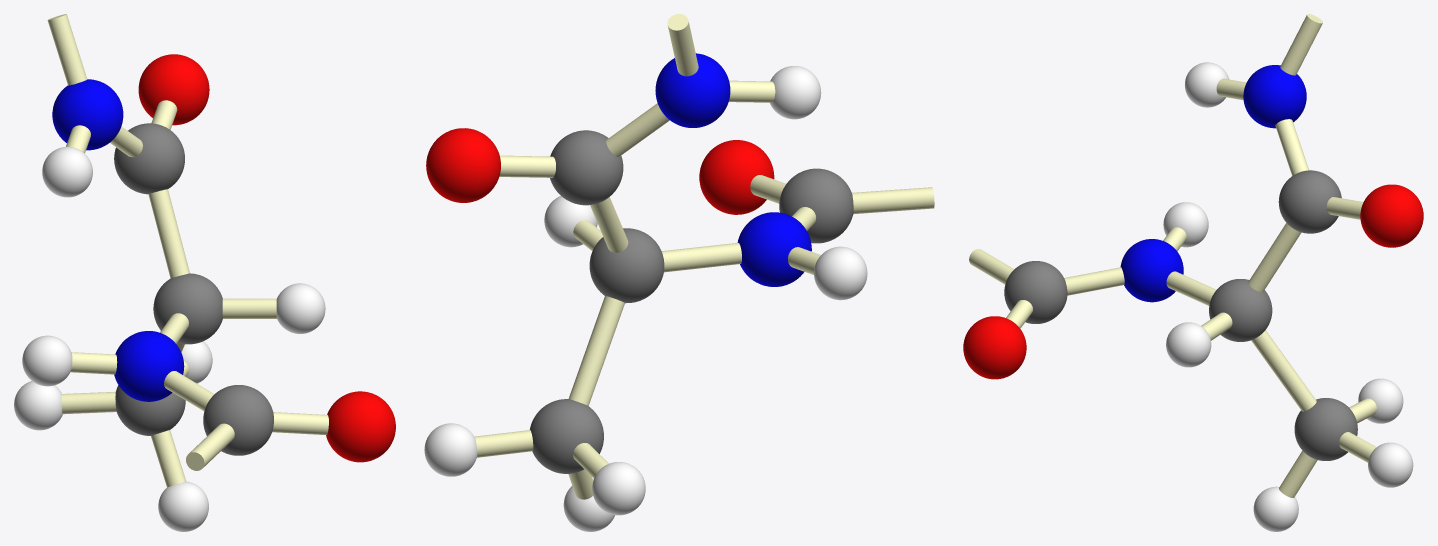
Rendered from conformation.gltf.
The picture shows the model from 3 angles, left to right: view 1: azimuth 30°, elevation 25°; view 2: azimuth 150°, elevation 25°; view 3: azimuth 270°, elevation 25°; orthographic projection. The views are drawn at different scales.
Visible parts, largest first — view 1: ?????????2, ?????????3, ?????????6, ?????????13, ?????????5, ?????????1, ?????????4, ?????????9, ?????????14, ?????????7, ?????????8, ?????????10 (+15 smaller); view 2: ?????????6, ?????????5, ?????????2, ?????????13, ?????????4, ?????????3, ?????????9, ?????????1, ?????????22, ?????????12, ?????????7, ?????????11 (+14 smaller); view 3: ?????????6, ?????????2, ?????????13, ?????????5, ?????????3, ?????????9, ?????????1, ?????????4, ?????????22, ?????????8, ?????????11, ?????????10 (+12 smaller).
Boxes of the visible parts, x1=… form: ?????????2: x1=326, y1=391, x2=395, y2=462; ?????????3: x1=114, y1=331, x2=184, y2=401; ?????????6: x1=138, y1=54, x2=209, y2=125; ?????????13: x1=52, y1=79, x2=123, y2=150; ?????????5: x1=114, y1=123, x2=184, y2=194; ?????????1: x1=203, y1=385, x2=273, y2=455; ?????????4: x1=153, y1=273, x2=222, y2=344; ?????????9: x1=115, y1=385, x2=185, y2=435; ?????????14: x1=42, y1=146, x2=92, y2=197; ?????????7: x1=22, y1=335, x2=72, y2=386; ?????????8: x1=276, y1=283, x2=325, y2=333; ?????????10: x1=158, y1=481, x2=208, y2=531; ?????????6: x1=426, y1=128, x2=500, y2=202; ?????????5: x1=550, y1=130, x2=623, y2=205; ?????????2: x1=699, y1=140, x2=774, y2=214; ?????????13: x1=655, y1=53, x2=730, y2=127; ?????????4: x1=589, y1=228, x2=664, y2=303; ?????????3: x1=737, y1=212, x2=811, y2=286; ?????????9: x1=529, y1=399, x2=603, y2=473; ?????????1: x1=779, y1=168, x2=853, y2=243; ?????????22: x1=568, y1=296, x2=624, y2=405; ?????????12: x1=592, y1=462, x2=645, y2=515; ?????????7: x1=814, y1=246, x2=867, y2=300; ?????????11: x1=424, y1=423, x2=477, y2=476; ?????????6: x1=1360, y1=184, x2=1423, y2=247; ?????????2: x1=963, y1=316, x2=1026, y2=379; ?????????13: x1=1243, y1=65, x2=1306, y2=128; ?????????5: x1=1278, y1=170, x2=1341, y2=233; ?????????3: x1=1120, y1=239, x2=1183, y2=302; ?????????9: x1=1294, y1=398, x2=1357, y2=460; ?????????1: x1=1004, y1=261, x2=1067, y2=323; ?????????4: x1=1209, y1=279, x2=1272, y2=341; ?????????22: x1=1251, y1=330, x2=1316, y2=411; ?????????8: x1=1166, y1=322, x2=1211, y2=367; ?????????11: x1=1368, y1=442, x2=1413, y2=487; ?????????10: x1=1253, y1=486, x2=1298, y2=531.
Bounding box in the file's own units: 33.92 × 57.19 × 50.86.
